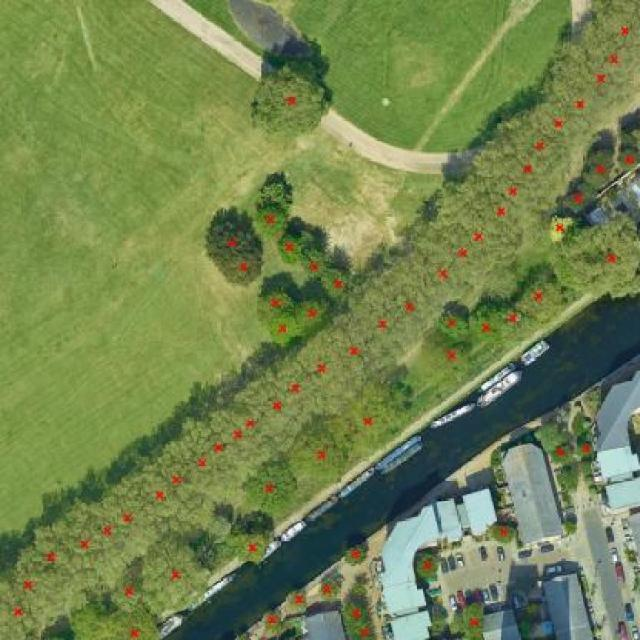tree: (244, 51, 339, 149), (549, 212, 640, 306), (432, 173, 543, 249), (355, 264, 453, 348), (328, 371, 410, 469), (289, 325, 369, 421), (435, 196, 496, 312), (342, 279, 423, 362), (136, 540, 216, 623), (56, 500, 130, 586), (282, 416, 361, 496), (447, 162, 562, 216), (413, 227, 478, 319), (547, 50, 616, 136), (78, 481, 139, 577), (99, 468, 159, 565), (245, 359, 302, 459), (33, 516, 90, 615), (172, 415, 226, 519), (492, 113, 578, 178), (468, 143, 570, 197), (132, 450, 183, 553), (265, 347, 324, 436), (150, 433, 202, 533), (571, 27, 626, 116), (519, 93, 596, 156), (581, 14, 637, 100), (216, 386, 261, 492), (325, 310, 386, 388), (66, 594, 169, 640), (229, 372, 273, 478), (237, 455, 303, 524), (194, 402, 238, 505), (508, 261, 572, 327), (200, 201, 265, 259), (15, 548, 59, 632), (584, 0, 640, 54), (572, 139, 623, 196), (0, 575, 43, 640), (225, 524, 279, 573), (445, 591, 499, 640), (213, 253, 270, 299), (291, 291, 335, 344), (423, 338, 483, 376), (248, 286, 303, 326), (246, 201, 291, 248), (433, 303, 475, 352), (469, 302, 509, 353), (530, 413, 576, 456), (550, 178, 604, 214), (538, 206, 580, 249), (294, 246, 337, 285), (320, 260, 355, 306), (261, 309, 297, 353), (253, 602, 296, 638), (108, 578, 147, 617), (408, 544, 447, 582), (336, 589, 375, 626), (485, 513, 523, 550), (493, 298, 529, 336), (542, 432, 578, 470), (336, 537, 375, 572), (313, 571, 345, 609), (275, 230, 307, 267), (568, 432, 602, 463), (342, 614, 381, 640), (281, 586, 317, 612), (614, 141, 640, 173), (558, 515, 582, 539)
